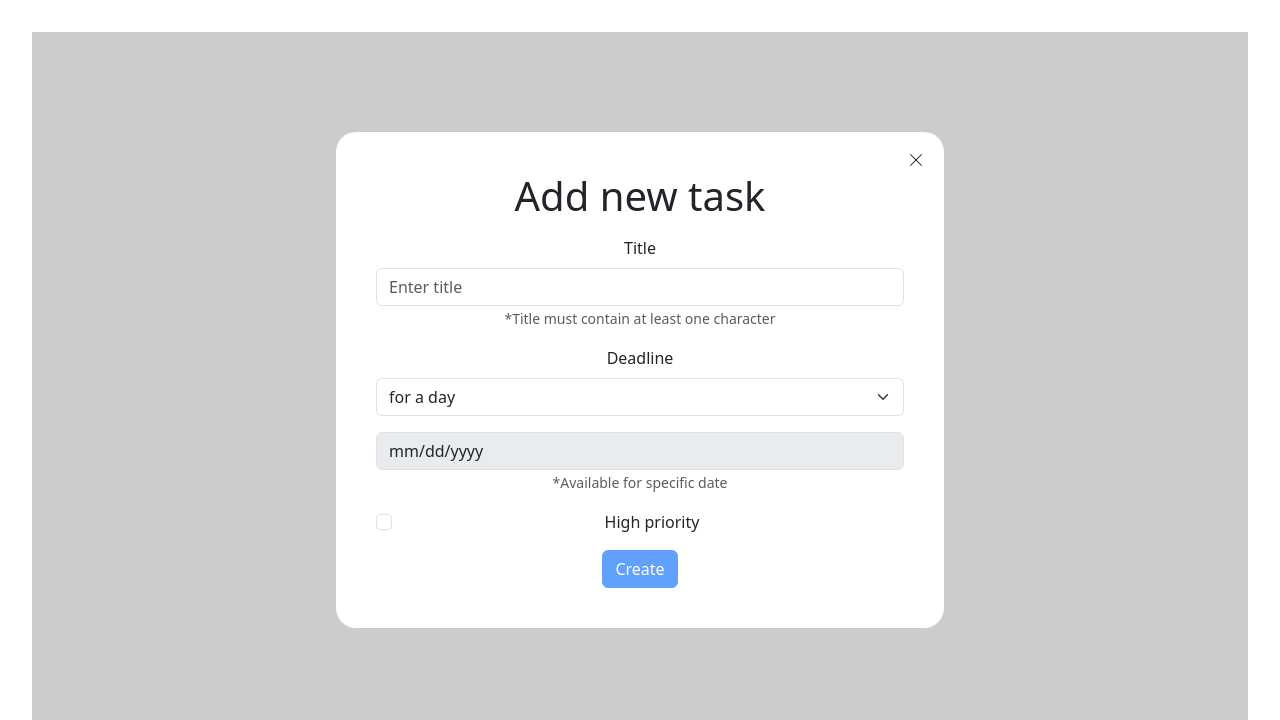
Test case: date error
Type "newTask" into the field at (640, 287), box [376, 268, 904, 306]
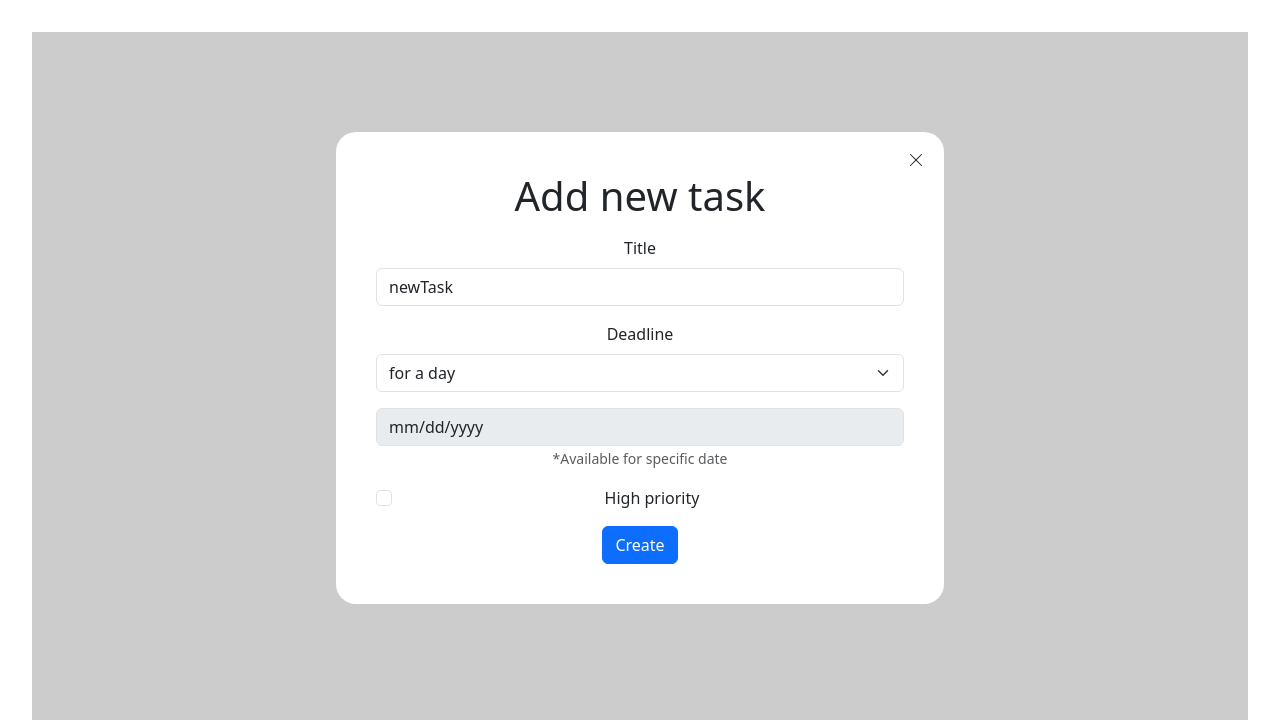
Check: the text "*Available for specific date" is shown, box [552, 449, 727, 468]
Check: the button "Create" is enabled, box [602, 526, 678, 564]
Select "specific date" in the dropdown labelled "Deadline" at (640, 373), box [376, 354, 904, 392]
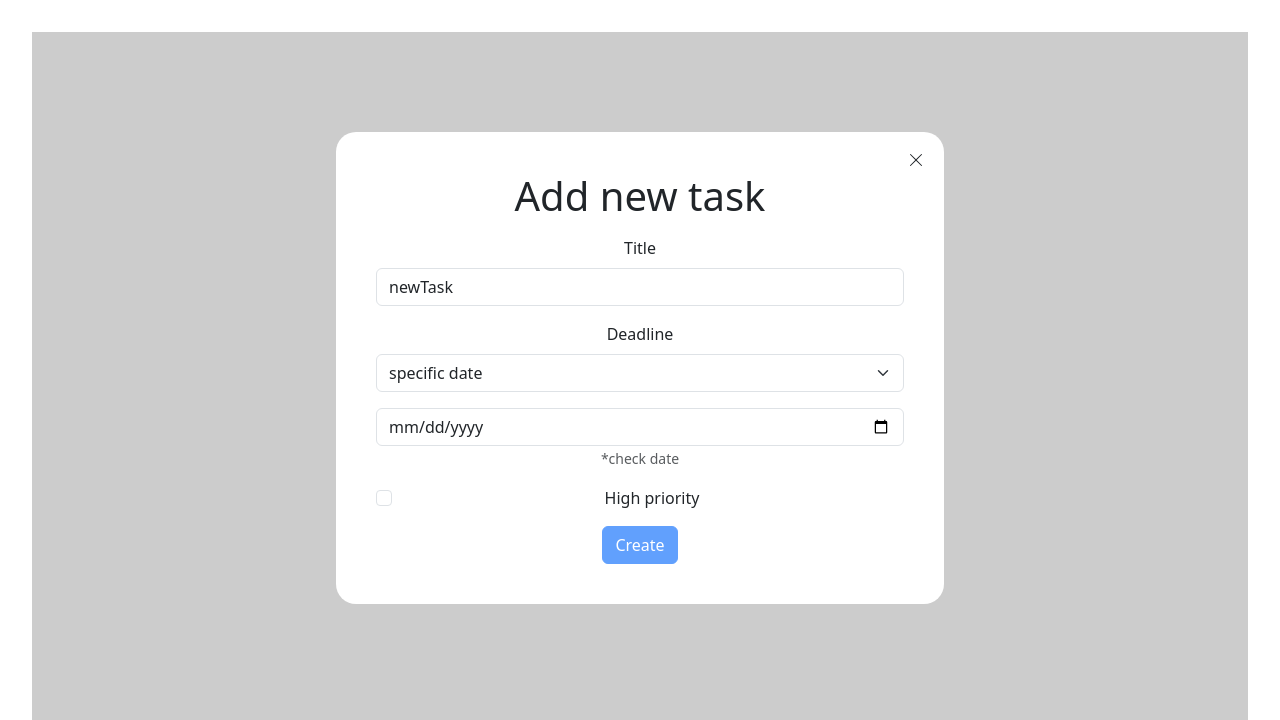
Check: the text "*check date" is shown, box [601, 449, 679, 468]
Check: the button "Create" is disabled, box [602, 526, 678, 564]
Check: the date field with test id "calendar" is enabled, box [376, 408, 904, 446]
Select "for a month" in the dropdown labelled "Deadline" at (640, 373), box [376, 354, 904, 392]
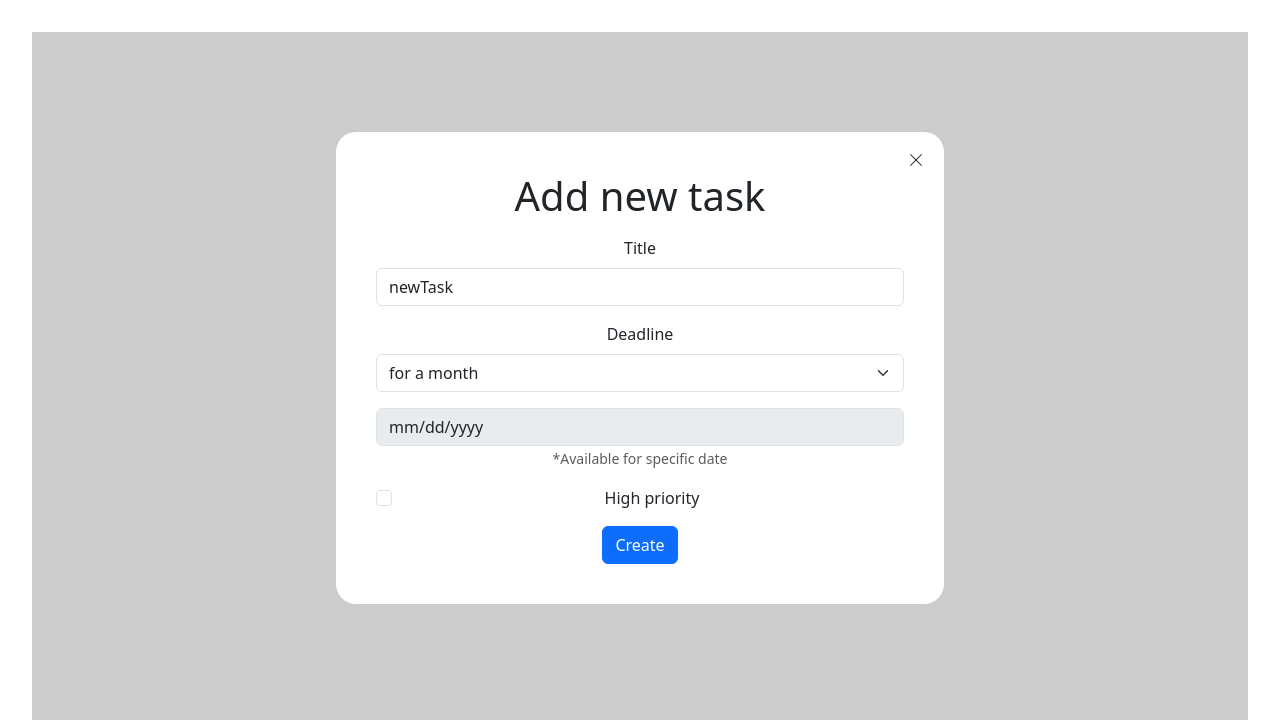
Check: the text "*Available for specific date" is shown, box [552, 449, 727, 468]
Check: the button "Create" is enabled, box [602, 526, 678, 564]
Check: the date field with test id "calendar" is disabled, box [376, 408, 904, 446]
